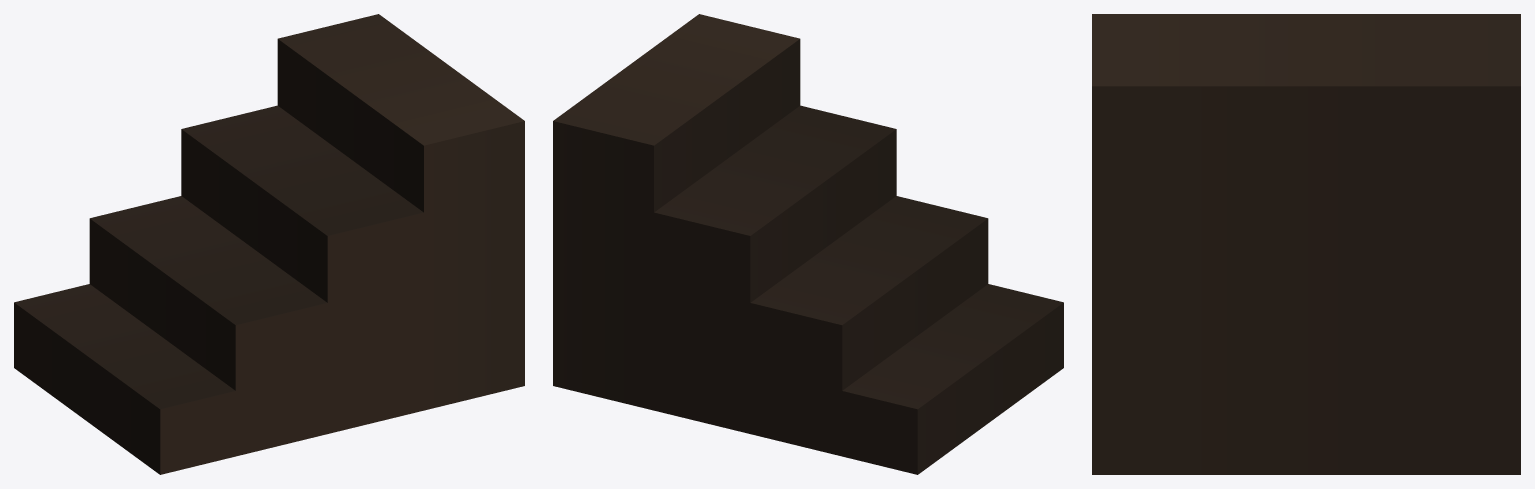
Rendered from Steps.fbx.
3 renders of one model, left to right at view 1: azimuth 30°, elevation 25°; view 2: azimuth 150°, elevation 25°; view 3: azimuth 270°, elevation 25°, orthographic. The views are drawn at different scales.
Visible parts, largest first — view 1: Steps; view 2: Steps; view 3: Steps.
Part boxes in pixels (bbox=[...]): Steps: bbox=[14, 14, 524, 474]; Steps: bbox=[553, 14, 1063, 474]; Steps: bbox=[1092, 14, 1520, 474].
Bounding box in the file's own units: 288 × 200 × 200.
